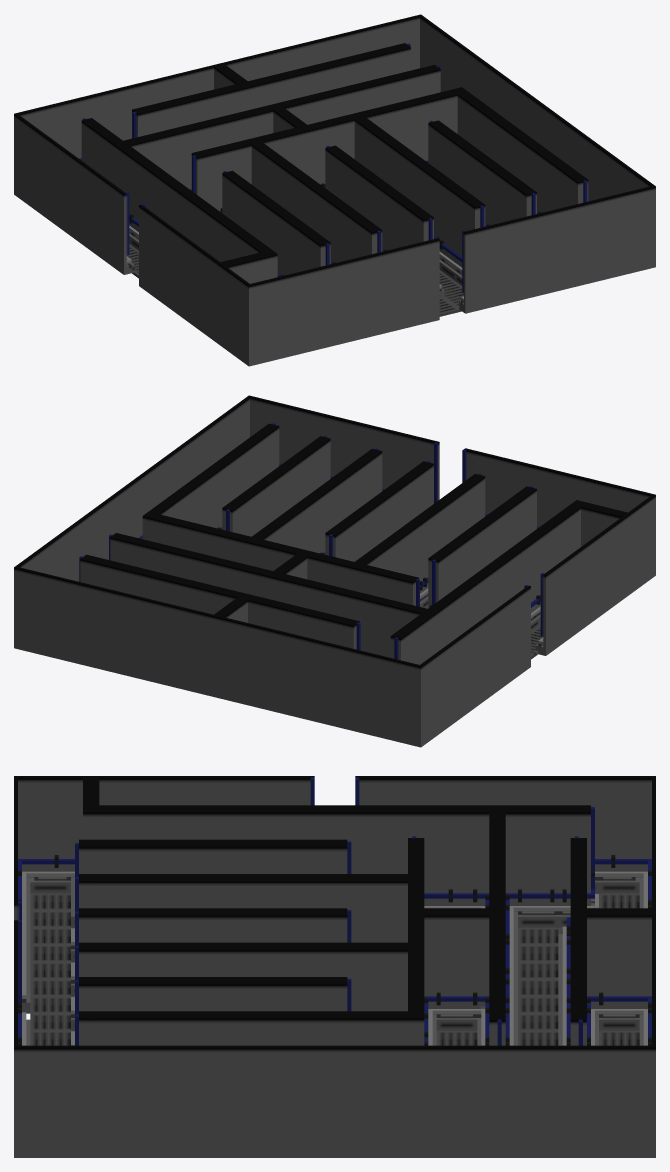
The model's file is Level03pt3.fbx.
The picture shows the model from 3 angles, top to bottom: view 1: azimuth 30°, elevation 25°; view 2: azimuth 150°, elevation 25°; view 3: azimuth 270°, elevation 25°; orthographic projection. The views are drawn at different scales.
Parts seen in each view (by area): view 1: Union; view 2: Union; view 3: Union.
Part boxes in pixels (x1,y1,x2,y2): Union: [14, 14, 655, 366]; Union: [14, 395, 655, 747]; Union: [14, 776, 655, 1157].
Size of the model in its own units: 158 by 31 by 158.
